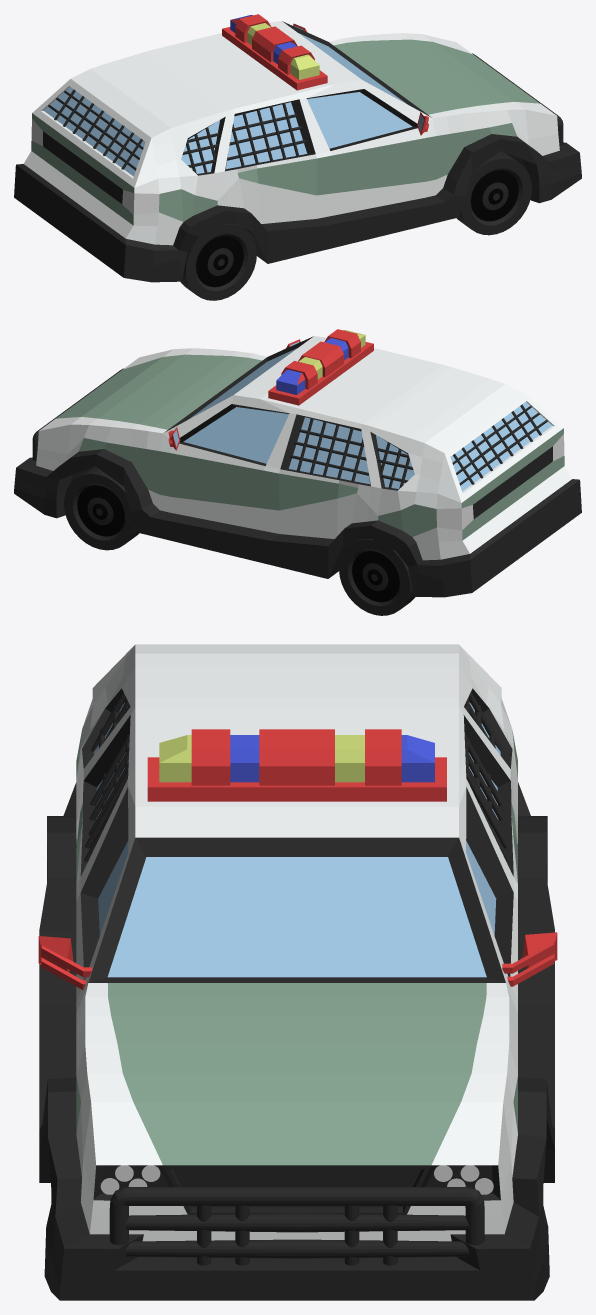
File: PolizeiMittel.fbx
The picture shows the model from 3 angles, top to bottom: view 1: azimuth 30°, elevation 25°; view 2: azimuth 150°, elevation 25°; view 3: azimuth 270°, elevation 25°; orthographic projection. The views are drawn at different scales.
Visible parts, largest first — view 1: Polizei; view 2: Polizei; view 3: Polizei.
Part boxes in pixels (bbox=[...]): Polizei: bbox=[14, 14, 581, 300]; Polizei: bbox=[14, 329, 581, 615]; Polizei: bbox=[38, 644, 557, 1300].
Bounding box in the file's own units: 18.01 × 7.31 × 8.92.
